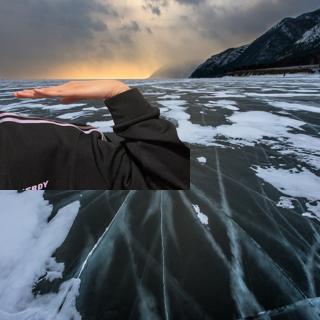Wait: (9, 72, 133, 107)
